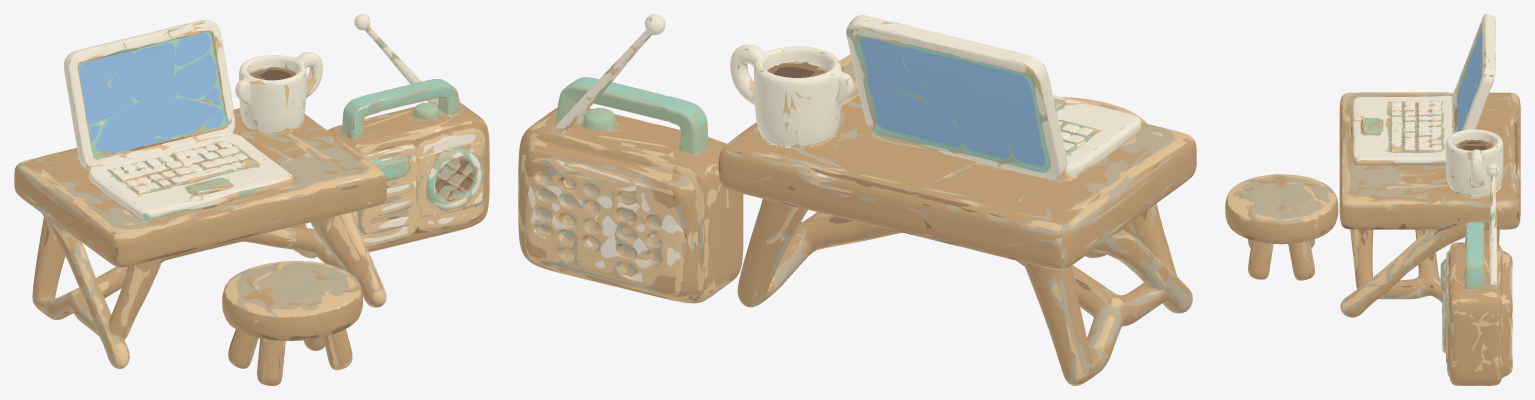
The model's file is folding-laptop-radio-workstation-flat-source-v4.glb.
The picture shows the model from 3 angles, left to right: view 1: azimuth 30°, elevation 25°; view 2: azimuth 150°, elevation 25°; view 3: azimuth 270°, elevation 25°; orthographic projection. The views are drawn at different scales.
Parts seen in each view (by area): view 1: folding-laptop-radio-workstation-flat-source-v4; view 2: folding-laptop-radio-workstation-flat-source-v4; view 3: folding-laptop-radio-workstation-flat-source-v4.
Part boxes in pixels (<box>): folding-laptop-radio-workstation-flat-source-v4: <box>14,14,489,385</box>; folding-laptop-radio-workstation-flat-source-v4: <box>518,14,1196,385</box>; folding-laptop-radio-workstation-flat-source-v4: <box>1225,14,1520,385</box>.
Size of the model in its own units: 1.9 by 1.04 by 1.3.
1 material, 1 textured.
